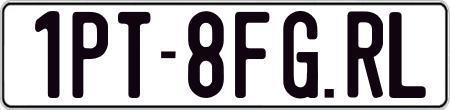1: (33, 11, 61, 103)
8: (186, 9, 225, 99)
F: (232, 10, 266, 102)
G: (282, 9, 317, 97)
L: (389, 10, 426, 101)
P: (69, 10, 106, 97)
R: (344, 11, 386, 100)
T: (117, 10, 150, 98)
